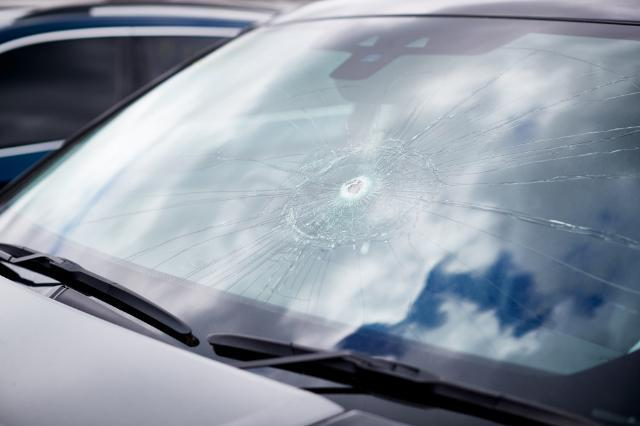glass shatter: (0, 16, 640, 426)
